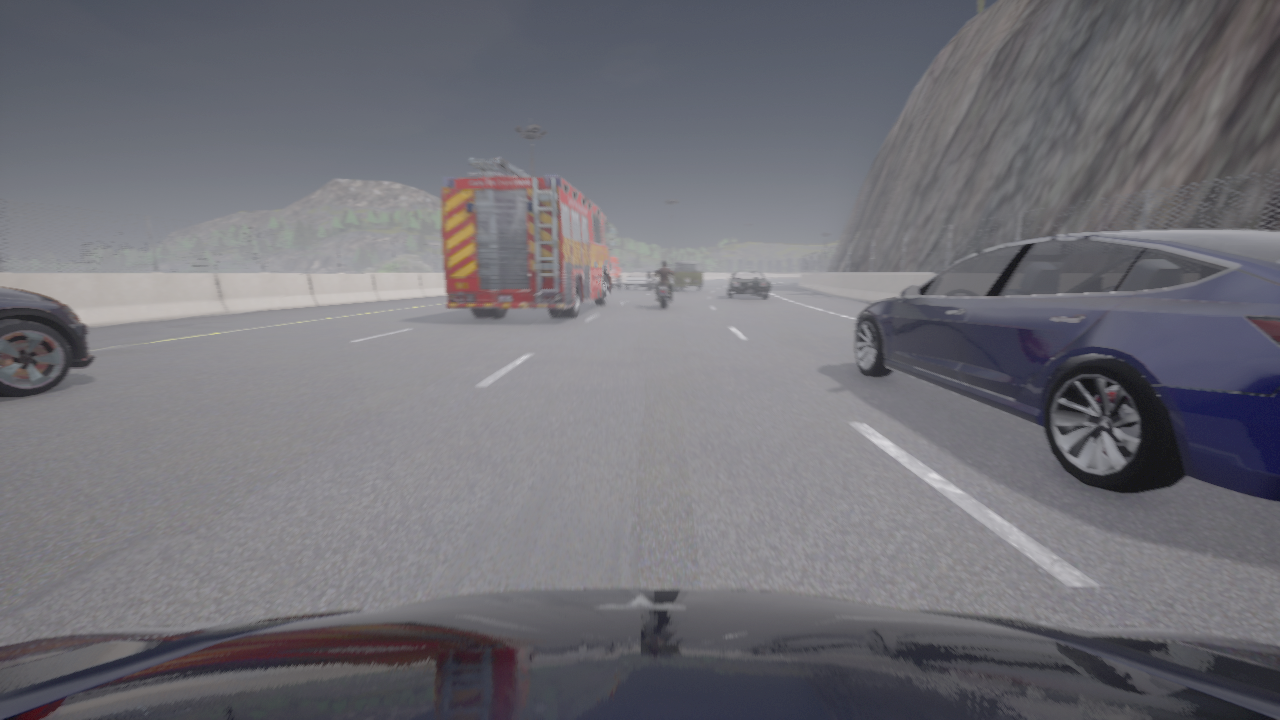cyclist: (0, 588, 1279, 719), (854, 229, 1279, 501), (442, 157, 616, 318), (726, 271, 770, 298), (674, 261, 705, 290), (657, 271, 675, 308), (623, 272, 658, 289), (610, 256, 624, 288)
